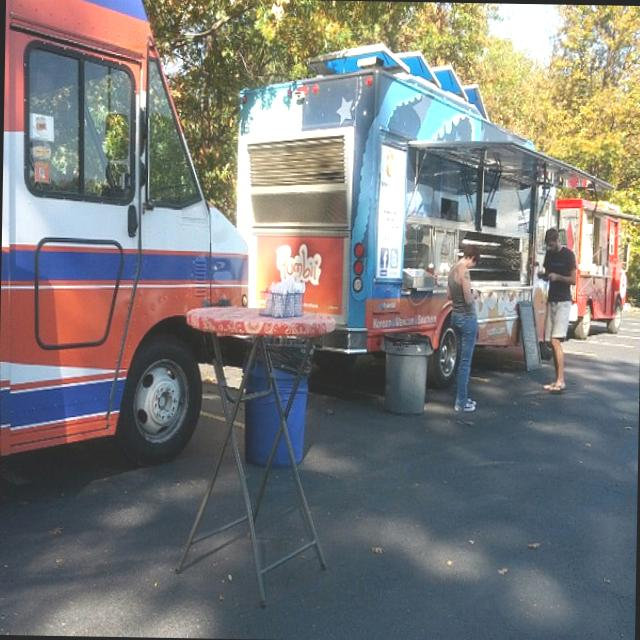Vehicle: (234, 39, 624, 378), (0, 0, 254, 463), (552, 195, 636, 343), (634, 281, 640, 308)
